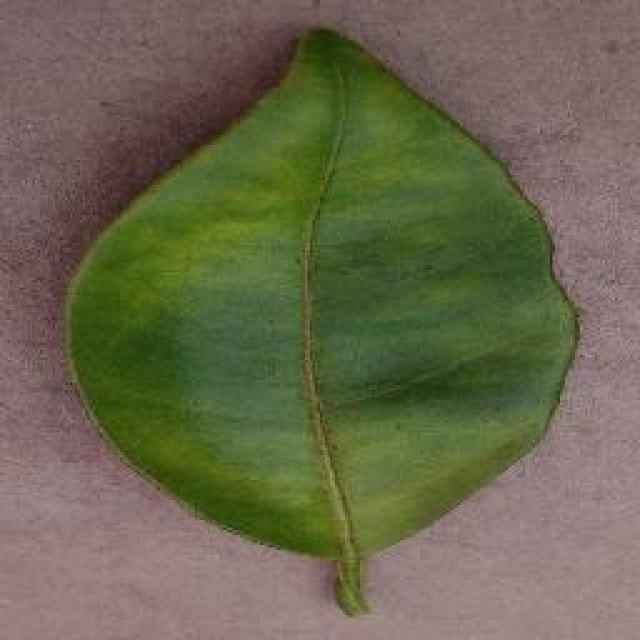Orange_Haunglongbing_Citrus_greening: (138, 107, 534, 538)
